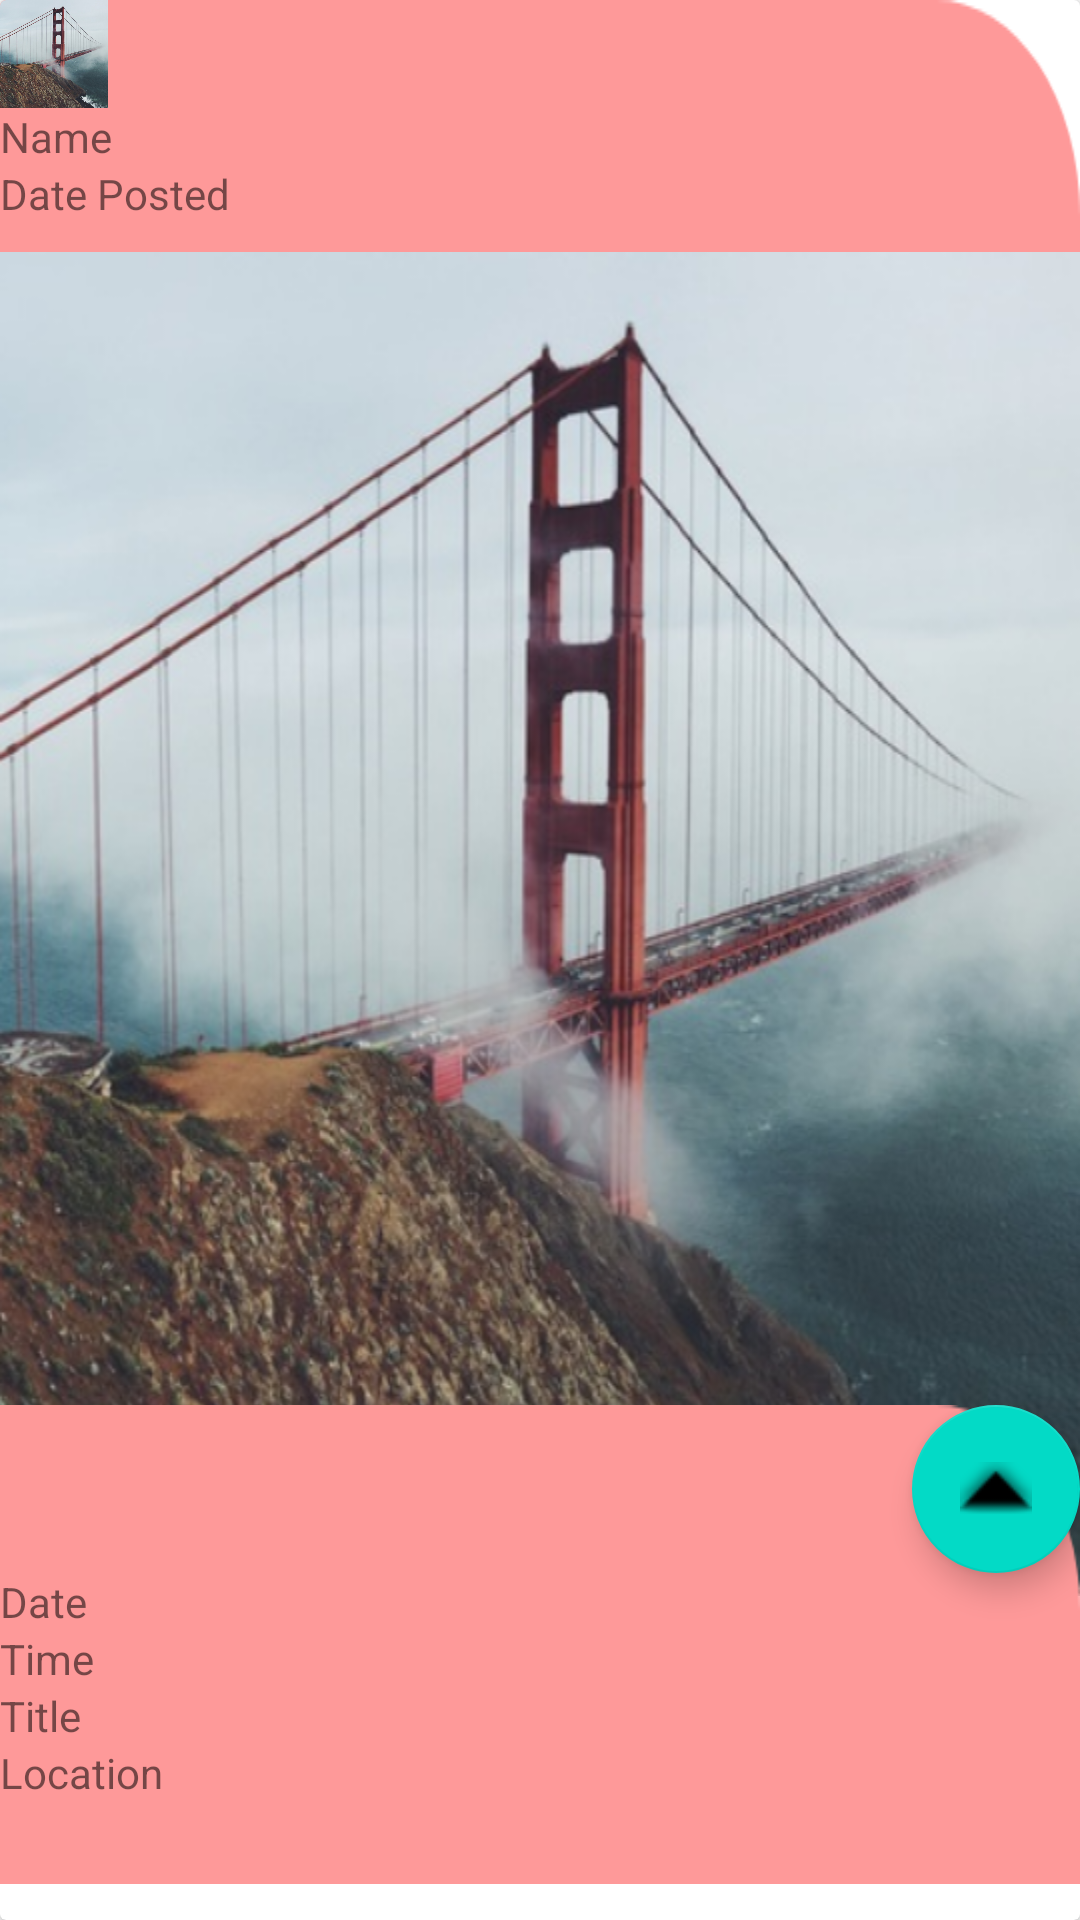

Icon click points for this 1080w x 1920h phone screenshot, format (x,y):
arrow up float: (996,1489)
